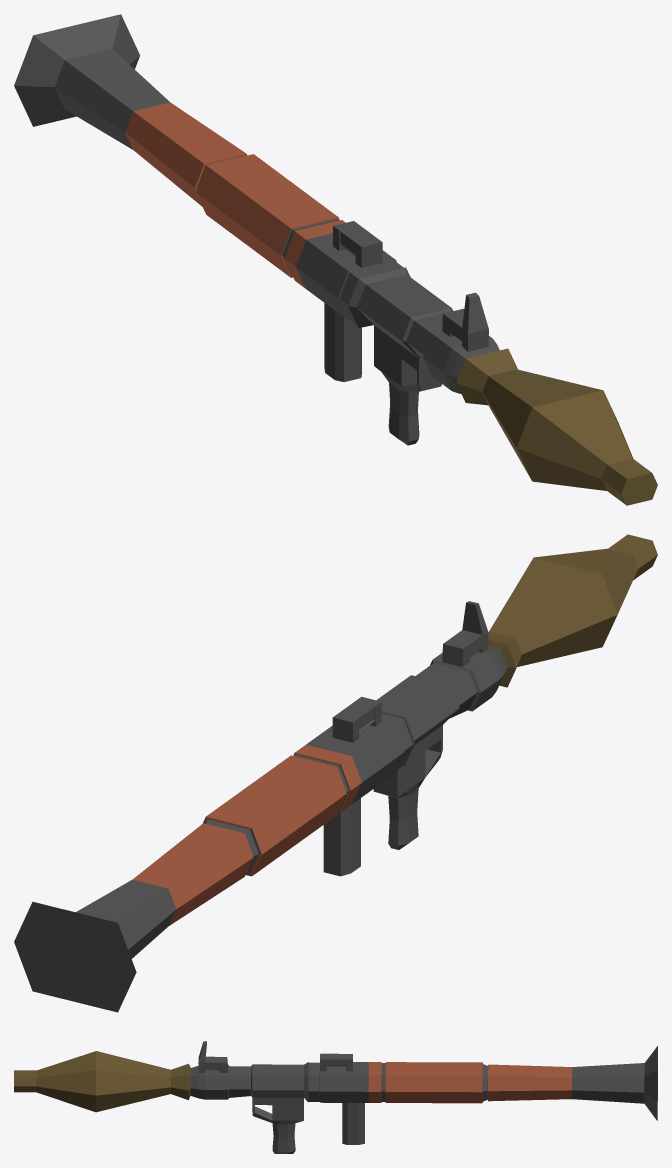
File: Explosive.fbx
The picture shows the model from 3 angles, top to bottom: view 1: azimuth 30°, elevation 25°; view 2: azimuth 150°, elevation 25°; view 3: azimuth 270°, elevation 25°; orthographic projection. The views are drawn at different scales.
Parts seen in each view (by area): view 1: RPG; view 2: RPG; view 3: RPG.
Part boxes in pixels (box(x1,y1,x2,y2)): RPG: box(14, 14, 657, 505); RPG: box(14, 534, 657, 1012); RPG: box(14, 1041, 657, 1153).
Size of the model in its own units: 11.27 by 16.7 by 88.51.
